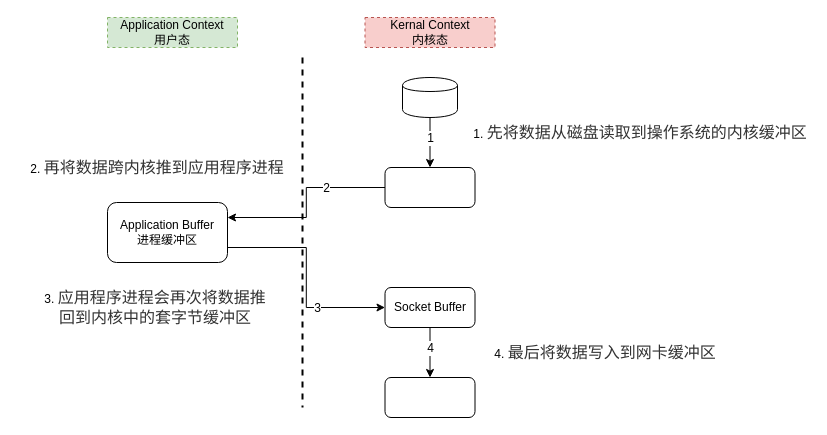
Some shapes in this 827 by 435 pixel diagram are drawn without their labels. The centre of each missing label's shape, as x and y in pixels:
Read Buffer: the point at 429,187
网卡: the point at 429,397
